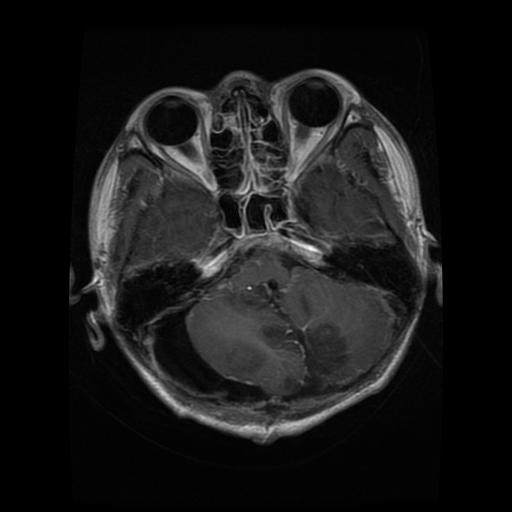Gliomia_tumour: (259, 322, 349, 387)
